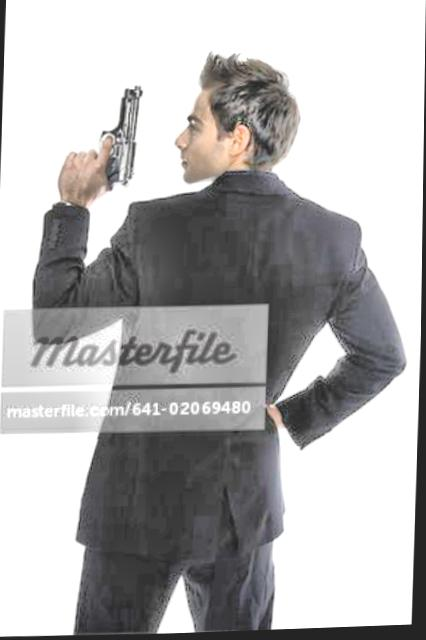pistol: (48, 78, 155, 198)
